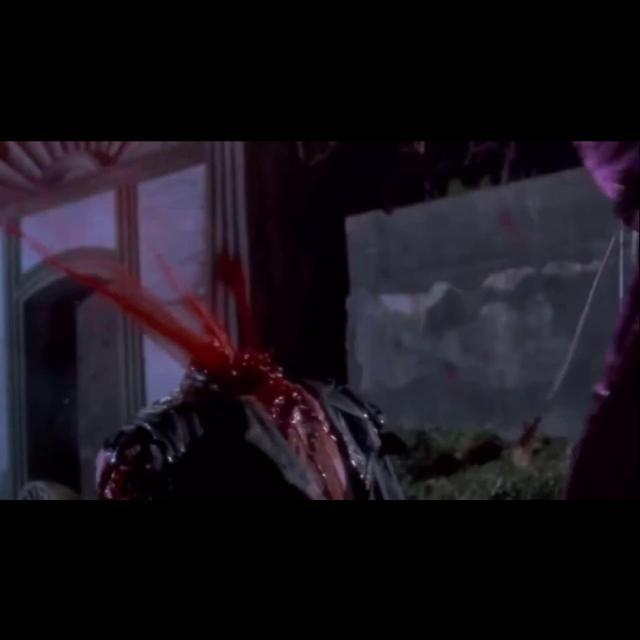blood: (45, 248, 400, 499), (102, 466, 162, 500)
